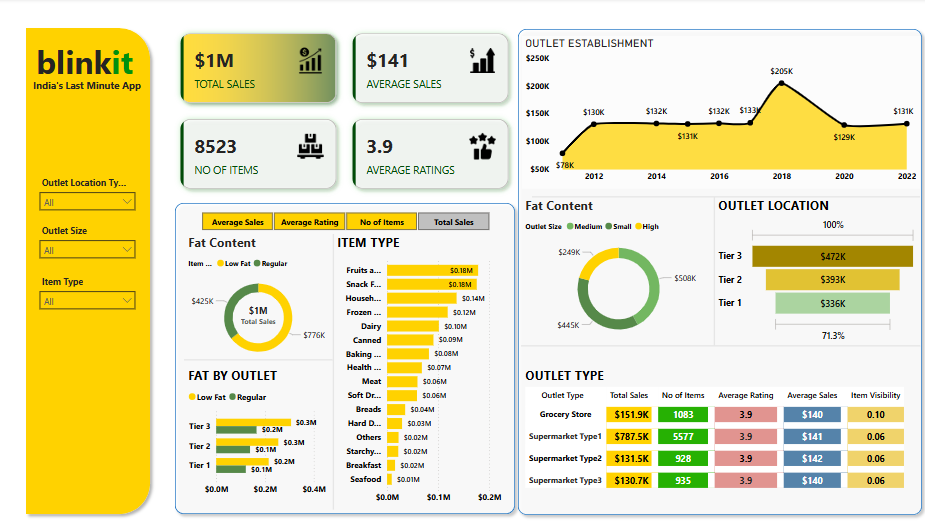

This screenshot's page, from the dashboard's own definition file:
{"tool":"powerbi","page":{"name":"Page 1","canvas":[1400,800],"ordinal":0},"visuals":[{"type":"shape","box":[33.1,36.7,205,750],"z":0},{"type":"textbox","box":[52.7,57.2,164.1,81.3],"z":1000},{"type":"textbox","box":[43.7,115.9,194.2,43.7],"z":2000},{"type":"cardVisual","fields":{"Data":["BlinkIT Grocery Data.Total Sales","BlinkIT Grocery Data.Average Sales","BlinkIT Grocery Data.No of Items","BlinkIT Grocery Data.Average Rating"]},"box":[257.4,36.1,529.9,269.5],"z":3000},{"type":"shape","box":[257.4,299.6,529.9,486.2],"z":4000},{"type":"donutChart","title":"Fat Content","fields":{"Y":["BlinkIT Grocery Data.Total Sales"],"Category":["BlinkIT Grocery Data.Item Fat Content"]},"box":[281.5,355.3,221.3,200.2],"z":5000},{"type":"slicer","fields":{"Values":["Metrics.Metrics"]},"box":[281.5,316.1,481.7,39.1],"z":6000},{"type":"cardVisual","fields":{"Data":["BlinkIT Grocery Data.Total Sales"]},"box":[331.2,438.1,121.9,78.3],"z":7000},{"type":"clusteredBarChart","title":"FAT BY OUTLET","fields":{"Y":["BlinkIT Grocery Data.Total Sales"],"Category":["BlinkIT Grocery Data.Outlet Location Type"],"Series":["BlinkIT Grocery Data.Item Fat Content"]},"box":[281.5,555.5,221.3,201.7],"z":8000},{"type":"shape","box":[280,477.2,224.3,135.5],"z":9000},{"type":"shape","box":[392.9,355.3,224.3,415.5],"z":10000},{"type":"barChart","title":"ITEM TYPE","fields":{"Y":["BlinkIT Grocery Data.Total Sales"],"Category":["BlinkIT Grocery Data.Item Type"]},"box":[505.8,355.3,268,415.5],"z":11000},{"type":"shape","box":[773.8,37.6,626.2,749.7],"z":12000},{"type":"lineChart","title":"OUTLET ESTABLISHMENT","fields":{"Category":["BlinkIT Grocery Data.Outlet Establishment Year"],"Y":["BlinkIT Grocery Data.Total Sales"]},"box":[788.8,57.2,599.1,230.3],"z":13000},{"type":"shape","box":[803.9,234.8,584.1,129.5],"z":14000},{"type":"donutChart","title":"Fat Content","fields":{"Y":["BlinkIT Grocery Data.Total Sales"],"Category":["BlinkIT Grocery Data.Outlet Size","BlinkIT Grocery Data.Item Fat Content"]},"box":[788.8,299.6,290.5,224.3],"z":15000},{"type":"shape","box":[966.5,299.6,224.3,224.3],"z":16000},{"type":"funnel","title":"OUTLET LOCATION","fields":{"Y":["BlinkIT Grocery Data.Total Sales"],"Category":["BlinkIT Grocery Data.Outlet Location Type"]},"box":[1079.4,299.6,308.6,224.3],"z":17000},{"type":"shape","box":[787.3,459.1,600.6,129.5],"z":18000},{"type":"pivotTable","title":"OUTLET TYPE","fields":{"Values":["BlinkIT Grocery Data.Total Sales","BlinkIT Grocery Data.No of Items","BlinkIT Grocery Data.Average Rating","BlinkIT Grocery Data.Average Sales","Avg(BlinkIT Grocery Data.Item Visibility)"],"Rows":["BlinkIT Grocery Data.Outlet Type"]},"box":[788.8,555.5,594.6,201.7],"z":19000},{"type":"slicer","fields":{"Values":["BlinkIT Grocery Data.Outlet Location Type"]},"box":[52.7,263.4,164.1,70.8],"z":20000},{"type":"slicer","fields":{"Values":["BlinkIT Grocery Data.Outlet Size"]},"box":[52.7,335.7,164.1,70.8],"z":21000},{"type":"slicer","fields":{"Values":["BlinkIT Grocery Data.Item Type"]},"box":[52.7,412.5,164.1,70.8],"z":22000}]}

Visuals, with their boxes in screenshot pixels (x1, y1, x2, y2), scaled from the page's 1400x800 canvas onto the 925x524 screenshot:
shape: [x1=22, y1=24, x2=157, y2=515]
textbox: [x1=35, y1=37, x2=143, y2=91]
textbox: [x1=29, y1=76, x2=157, y2=105]
cardVisual - BlinkIT Grocery Data.Total Sales x BlinkIT Grocery Data.Average Sales: [x1=170, y1=24, x2=520, y2=200]
shape: [x1=170, y1=196, x2=520, y2=515]
"Fat Content" donutChart: [x1=186, y1=233, x2=332, y2=364]
slicer - Metrics.Metrics: [x1=186, y1=207, x2=504, y2=233]
cardVisual - BlinkIT Grocery Data.Total Sales: [x1=219, y1=287, x2=299, y2=338]
"FAT BY OUTLET" clusteredBarChart: [x1=186, y1=364, x2=332, y2=496]
shape: [x1=185, y1=313, x2=333, y2=401]
shape: [x1=260, y1=233, x2=408, y2=505]
"ITEM TYPE" barChart: [x1=334, y1=233, x2=511, y2=505]
shape: [x1=511, y1=25, x2=924, y2=516]
"OUTLET ESTABLISHMENT" lineChart: [x1=521, y1=37, x2=917, y2=188]
shape: [x1=531, y1=154, x2=917, y2=239]
"Fat Content" donutChart: [x1=521, y1=196, x2=713, y2=343]
shape: [x1=639, y1=196, x2=787, y2=343]
"OUTLET LOCATION" funnel: [x1=713, y1=196, x2=917, y2=343]
shape: [x1=520, y1=301, x2=917, y2=386]
"OUTLET TYPE" pivotTable: [x1=521, y1=364, x2=914, y2=496]
slicer - BlinkIT Grocery Data.Outlet Location Type: [x1=35, y1=173, x2=143, y2=219]
slicer - BlinkIT Grocery Data.Outlet Size: [x1=35, y1=220, x2=143, y2=266]
slicer - BlinkIT Grocery Data.Item Type: [x1=35, y1=270, x2=143, y2=317]
